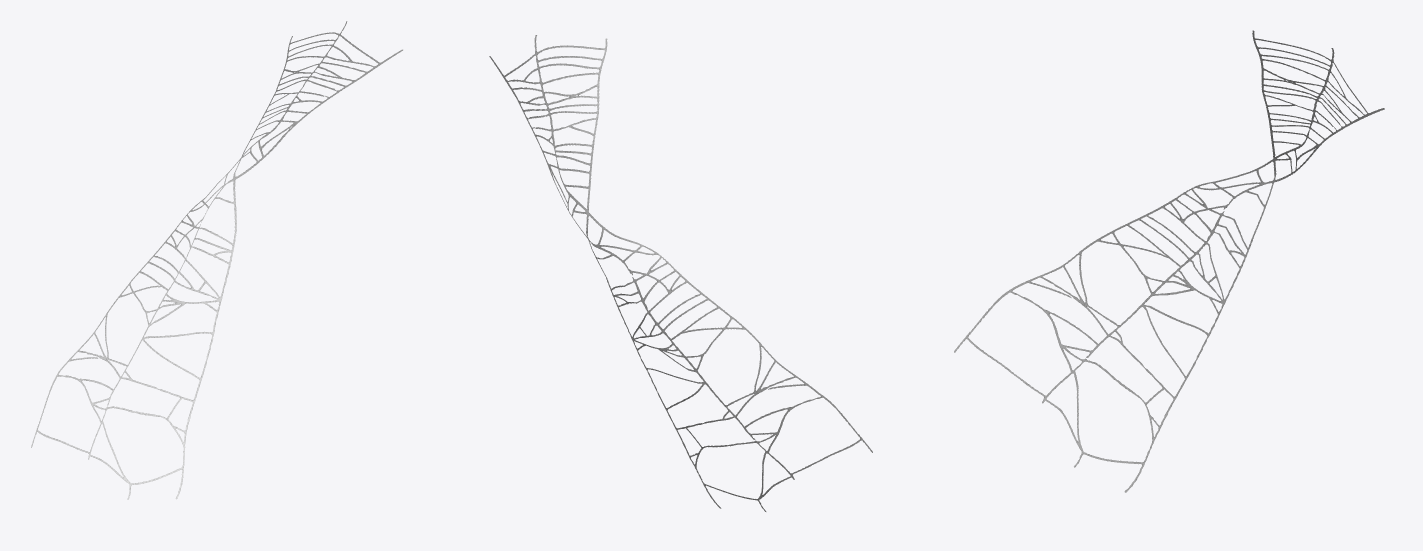
The model's file is SM_Cobwebs_08.fbx.
3 views of the same model, side by side, from view 1: azimuth 30°, elevation 25°; view 2: azimuth 150°, elevation 25°; view 3: azimuth 330°, elevation 25° (orthographic). The views are drawn at different scales.
Visible parts, largest first — view 1: SM_Cobwebs_08; view 2: SM_Cobwebs_08; view 3: SM_Cobwebs_08.
Part boxes in pixels (bbox=[...]): SM_Cobwebs_08: bbox=[31, 21, 402, 499]; SM_Cobwebs_08: bbox=[489, 35, 872, 511]; SM_Cobwebs_08: bbox=[954, 30, 1384, 492].
Bounding box in the file's own units: 116 × 126 × 20.9.
1 material, 1 textured.
